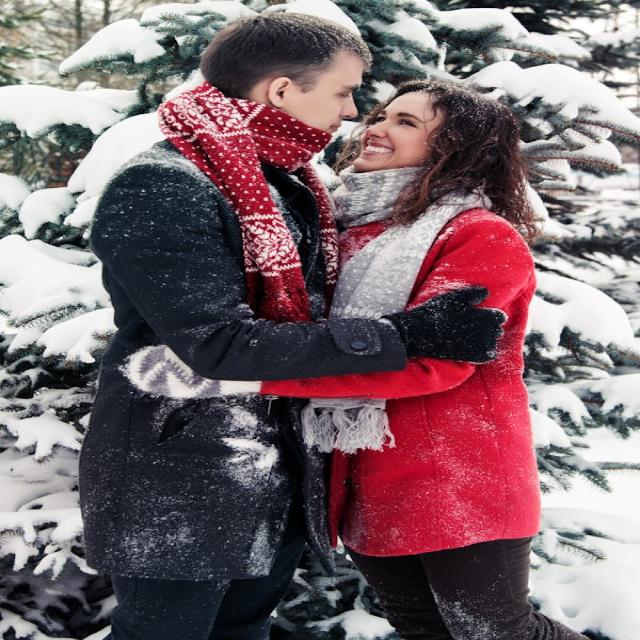Real human 2: (72, 4, 599, 640)
